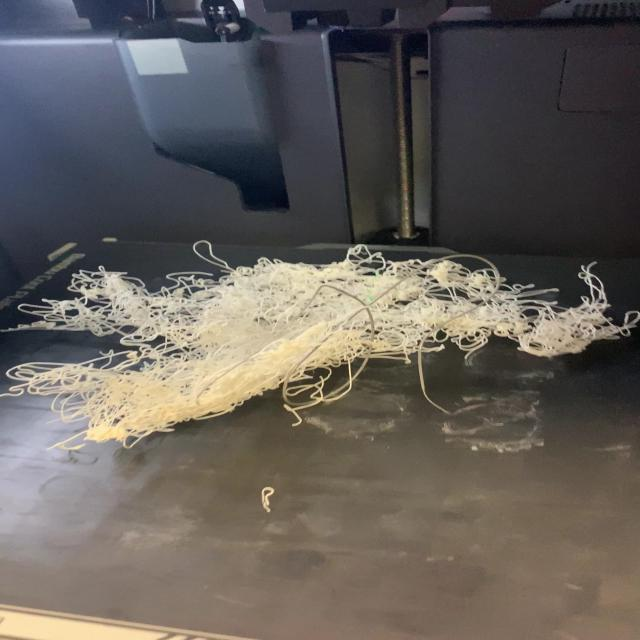spaghetti: (3, 238, 637, 454)
